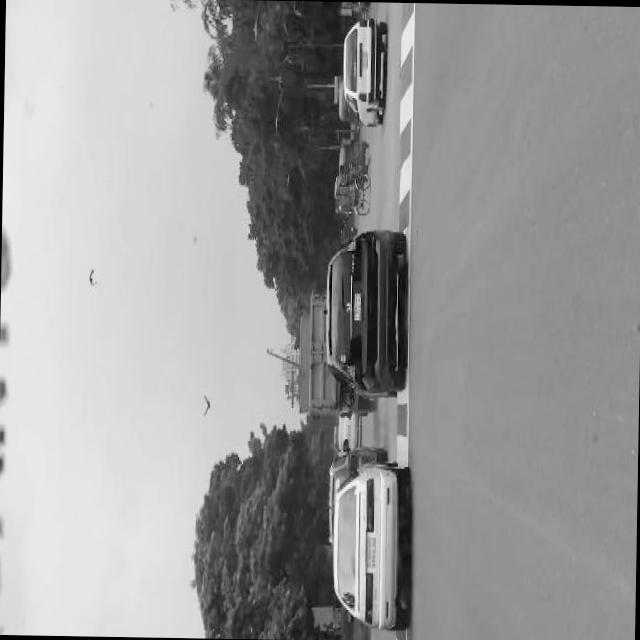car: (331, 462, 416, 630), (328, 237, 404, 375), (339, 12, 386, 128), (338, 413, 359, 447)
motorcycle: (332, 151, 370, 214), (338, 135, 368, 161), (338, 218, 356, 235)
truck: (296, 290, 338, 418)
